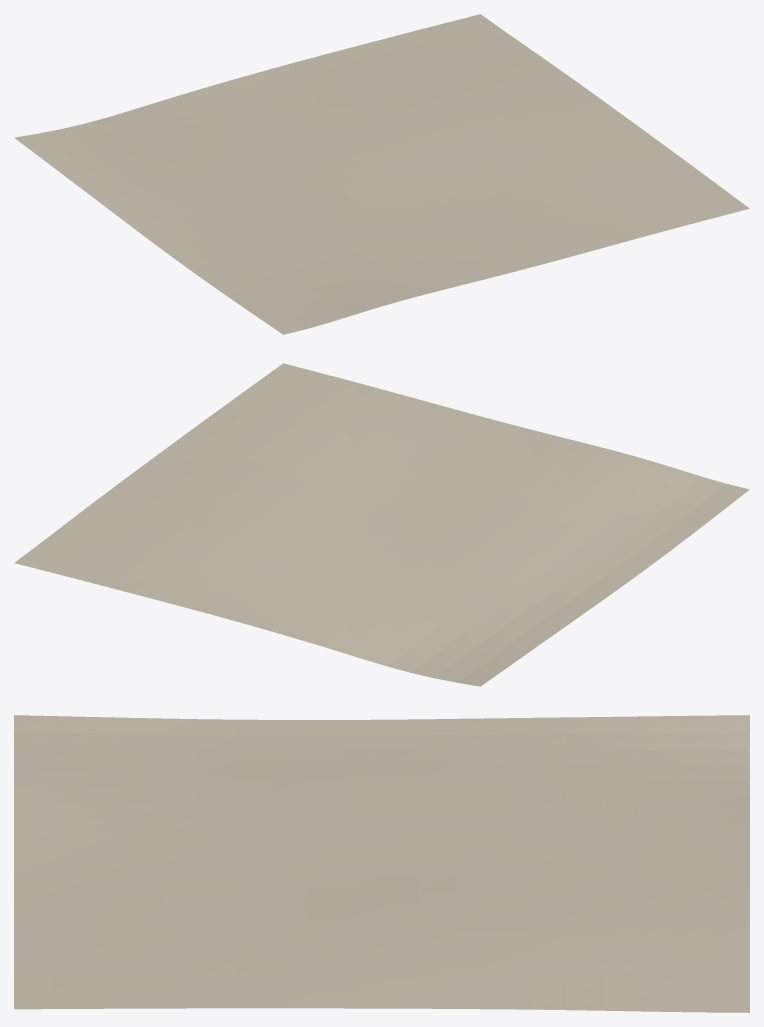
Rendered from bolak_9_4.glb.
3 renders of one model, top to bottom at view 1: azimuth 30°, elevation 25°; view 2: azimuth 150°, elevation 25°; view 3: azimuth 270°, elevation 25°, orthographic. The views are drawn at different scales.
Visible parts, largest first — view 1: Yer_Tuproq-col; view 2: Yer_Tuproq-col; view 3: Yer_Tuproq-col.
Part boxes in pixels (left/top/right/bottom): Yer_Tuproq-col: left=14, top=14, right=749, bottom=334; Yer_Tuproq-col: left=14, top=363, right=749, bottom=686; Yer_Tuproq-col: left=14, top=715, right=749, bottom=1012.
Bounding box in the file's own units: 400 × 13.64 × 400.
